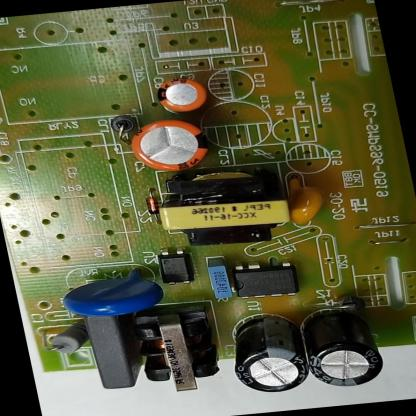Cap1: (122, 113, 218, 180)
Cap2: (149, 72, 215, 119)
Cap3: (221, 311, 316, 398)
Cap4: (293, 303, 391, 392)
MOSFET: (222, 257, 307, 303)
Mov: (51, 264, 176, 323)
Resistor: (42, 320, 100, 360)
Transformer: (145, 159, 300, 254), (123, 301, 229, 398)
